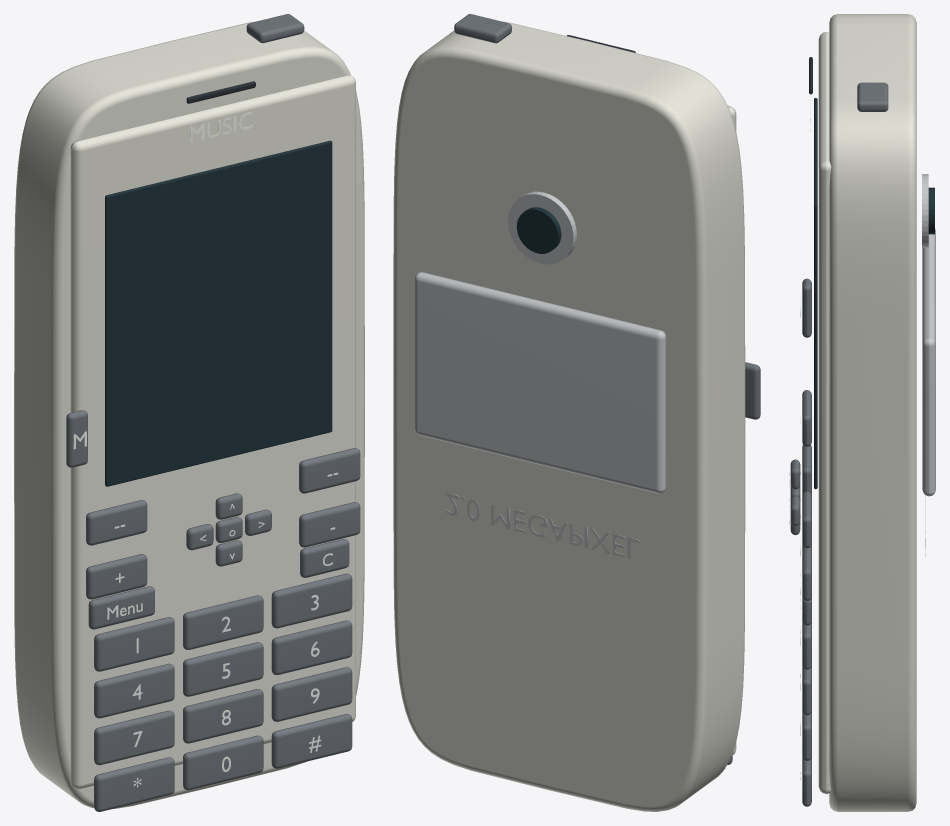
Rendered from walkman-collection.glb.
3 views of the same model, side by side, from view 1: azimuth 30°, elevation 25°; view 2: azimuth 150°, elevation 25°; view 3: azimuth 270°, elevation 25° (orthographic). The views are drawn at different scales.
Parts seen in each view (by area): view 1: Front_alloy, Display_glass, Camera_phone_shell, Key_digit:3, Key_digit:1, Key_digit:*, Key_digit:9, Key_digit:6, Key_digit:#, Key_digit:7, Key_digit:4, Key_digit:5 (+11 smaller); view 2: Camera_phone_shell, Sliding_camera_cover, Rear_camera_ring, Rear_brand, Rear_lens, Power, Key_music; view 3: Camera_phone_shell, Front_alloy, Sliding_camera_cover, Display_glass, Power, Key_music, Key_soft:left, Key_soft:right, Key_end, Rear_camera_ring, Key_contacts, Key_digit:9 (+6 smaller).
Boxes of the visible parts, box(x1,y1,x2,y2) form: Front_alloy: box(70, 75, 355, 788); Display_glass: box(105, 140, 332, 486); Camera_phone_shell: box(14, 21, 364, 808); Key_digit:3: box(271, 573, 352, 628); Key_digit:1: box(94, 617, 174, 671); Key_digit:*: box(94, 757, 174, 811); Key_digit:9: box(271, 667, 352, 721); Key_digit:6: box(271, 620, 352, 674); Key_digit:#: box(271, 714, 352, 768); Key_digit:7: box(94, 710, 174, 765); Key_digit:4: box(94, 663, 174, 718); Key_digit:5: box(183, 642, 263, 696); Camera_phone_shell: box(393, 21, 745, 811); Sliding_camera_cover: box(414, 272, 666, 493); Rear_camera_ring: box(508, 191, 576, 264); Rear_brand: box(446, 493, 639, 558); Rear_lens: box(516, 207, 561, 253); Power: box(454, 14, 511, 43); Key_music: box(745, 362, 760, 419); Camera_phone_shell: box(829, 14, 916, 811); Front_alloy: box(818, 32, 831, 793); Sliding_camera_cover: box(922, 228, 935, 496); Display_glass: box(814, 98, 817, 489); Power: box(857, 82, 888, 111); Key_music: box(802, 278, 811, 337); Key_soft:left: box(802, 390, 811, 446); Key_soft:right: box(802, 491, 811, 548); Key_end: box(802, 546, 811, 600); Rear_camera_ring: box(922, 174, 928, 247); Key_contacts: box(802, 445, 811, 494); Key_digit:9: box(802, 711, 811, 760).
Bounding box in the file's own units: 1.82 × 4.06 × 0.758.
